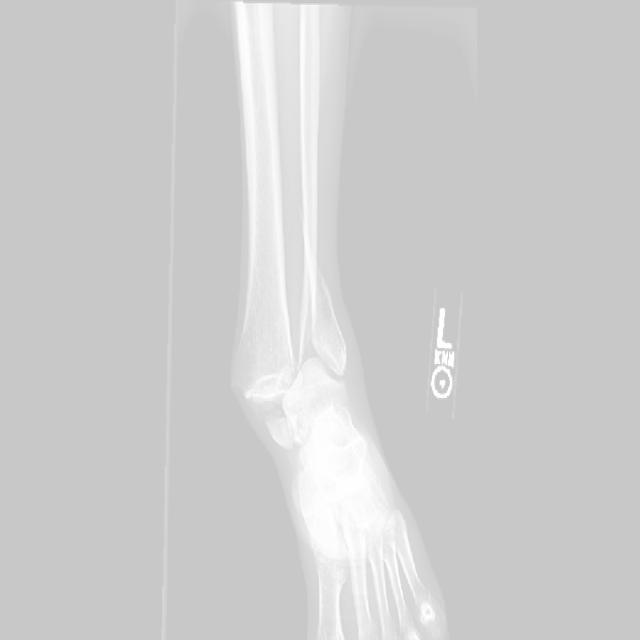Fracture Dislocation: (291, 269, 352, 371)
